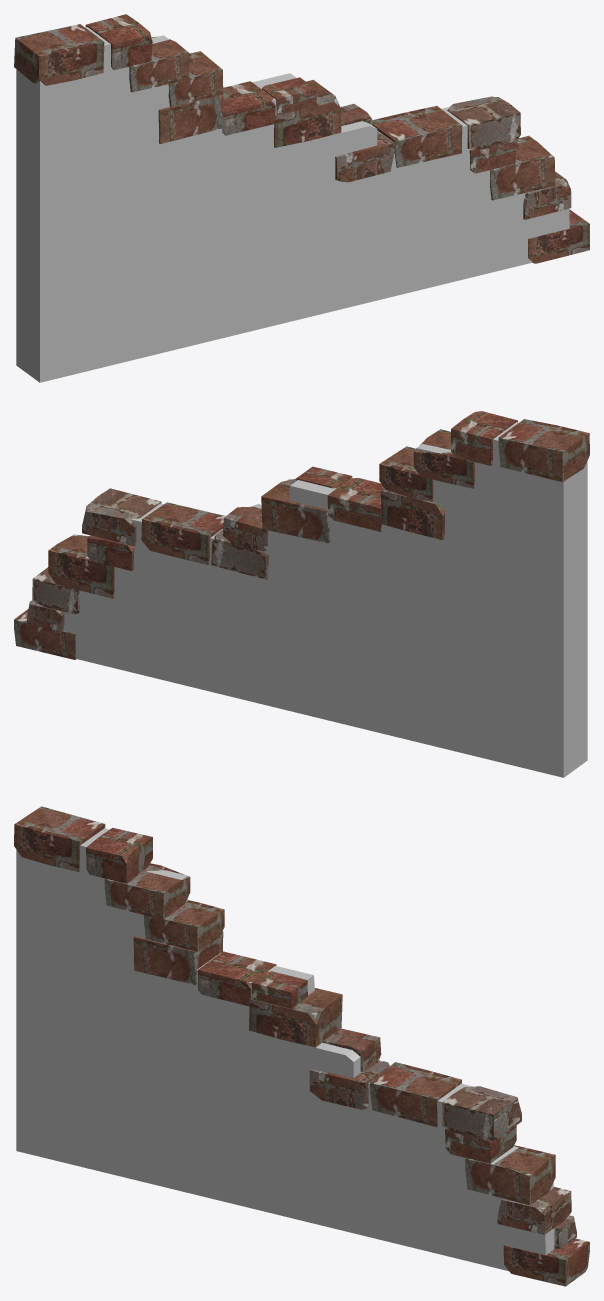
The model's file is SM_Wall_Ruined_28.fbx.
3 views of the same model, one above another, from view 1: azimuth 30°, elevation 25°; view 2: azimuth 150°, elevation 25°; view 3: azimuth 330°, elevation 25° (orthographic).
Visible parts, largest first — view 1: SM_Wall_Ruined_28_LOD0; view 2: SM_Wall_Ruined_28_LOD0; view 3: SM_Wall_Ruined_28_LOD0.
Boxes of the visible parts, left/top/right/bottom form: SM_Wall_Ruined_28_LOD0: left=14, top=14, right=589, bottom=382; SM_Wall_Ruined_28_LOD0: left=14, top=411, right=589, bottom=777; SM_Wall_Ruined_28_LOD0: left=14, top=806, right=589, bottom=1286.
Size of what is drawn, in the model's own units: 670 by 381 by 61.05.
